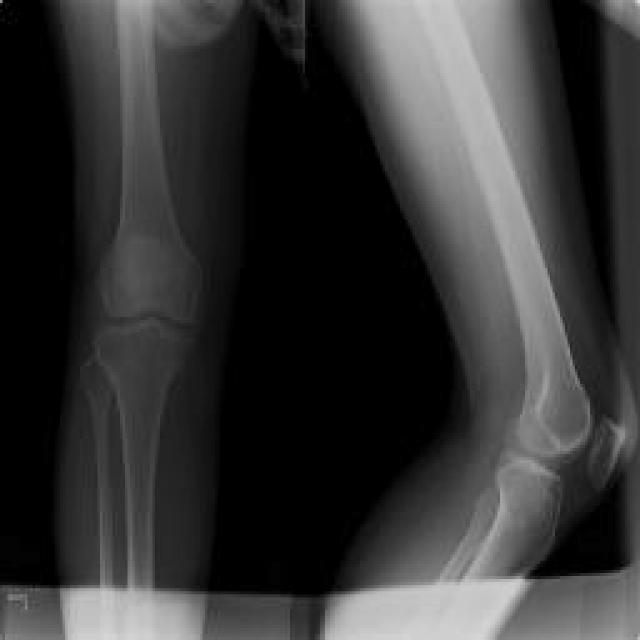normal: (411, 2, 587, 453), (101, 0, 204, 320), (81, 322, 192, 590), (439, 465, 560, 583)
